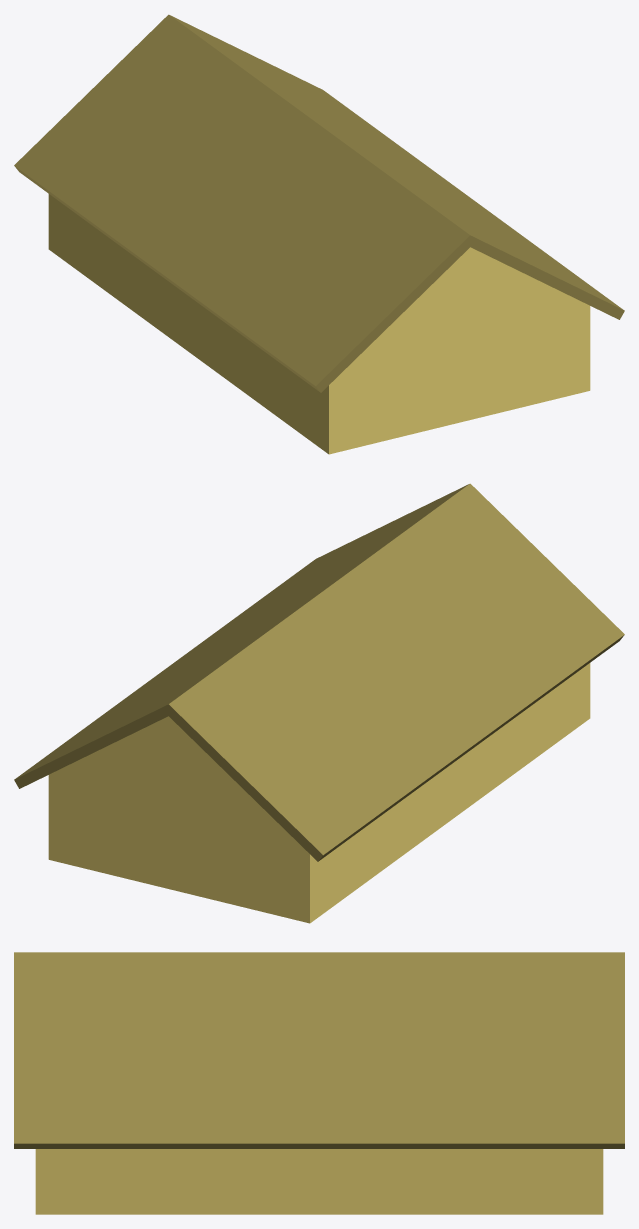
The model's file is result.glb.
3 views of the same model, one above another, from view 1: azimuth 30°, elevation 25°; view 2: azimuth 150°, elevation 25°; view 3: azimuth 270°, elevation 25° (orthographic).
Visible parts, largest first — view 1: be2db406-ca20-44d9-bc21-efeb40719b1f__undefined (×2), 6e2b28d9-3d68-45e6-8595-ba256236bd24__undefined; view 2: be2db406-ca20-44d9-bc21-efeb40719b1f__undefined (×2), 6e2b28d9-3d68-45e6-8595-ba256236bd24__undefined; view 3: be2db406-ca20-44d9-bc21-efeb40719b1f__undefined, 6e2b28d9-3d68-45e6-8595-ba256236bd24__undefined.
Boxes of the visible parts, x1,y1,x2,y2 form: be2db406-ca20-44d9-bc21-efeb40719b1f__undefined (×2): [14, 14, 624, 392]; 6e2b28d9-3d68-45e6-8595-ba256236bd24__undefined: [48, 194, 590, 454]; be2db406-ca20-44d9-bc21-efeb40719b1f__undefined (×2): [14, 483, 624, 861]; 6e2b28d9-3d68-45e6-8595-ba256236bd24__undefined: [48, 663, 590, 923]; be2db406-ca20-44d9-bc21-efeb40719b1f__undefined: [14, 952, 624, 1148]; 6e2b28d9-3d68-45e6-8595-ba256236bd24__undefined: [35, 1149, 603, 1214].
Size of the model in its own units: 829 by 500 by 1400.
